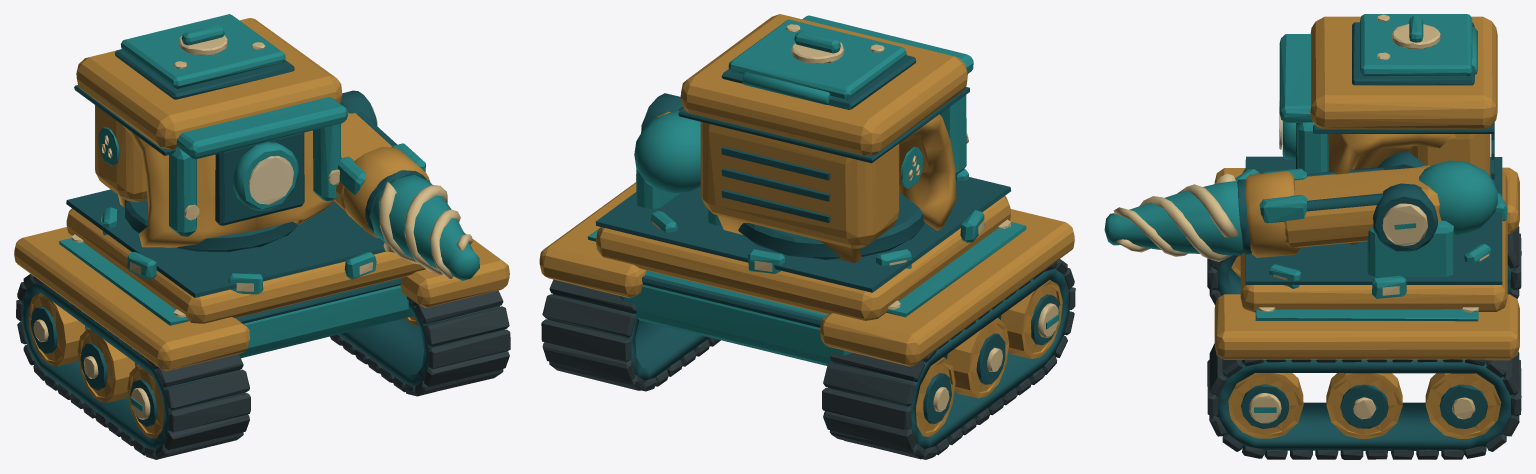
File: TOY_QUOTA.lo.glb
3 views of the same model, side by side, from view 1: azimuth 30°, elevation 25°; view 2: azimuth 150°, elevation 25°; view 3: azimuth 270°, elevation 25° (orthographic). The views are drawn at different scales.
Visible parts, largest first — view 1: mesh_Chassis, mesh_TurretYaw, mesh_BodySpring, mesh_DrillSpin, mesh_BatteryCover, mesh_Slide, mesh_ArmPitch, mesh_DriveL; view 2: mesh_Chassis, mesh_TurretYaw, mesh_BodySpring, mesh_BatteryCover, mesh_ArmPitch, mesh_DriveL; view 3: mesh_Chassis, mesh_TurretYaw, mesh_BodySpring, mesh_ArmPitch, mesh_DrillSpin, mesh_BatteryCover, mesh_Slide, mesh_DriveR.
Boxes of the visible parts, <box> form: mesh_Chassis: <box>14,227,510,459</box>; mesh_TurretYaw: <box>74,18,376,251</box>; mesh_BodySpring: <box>66,189,425,323</box>; mesh_DrillSpin: <box>370,174,480,280</box>; mesh_BatteryCover: <box>121,14,285,88</box>; mesh_Slide: <box>338,143,430,238</box>; mesh_ArmPitch: <box>333,107,397,210</box>; mesh_DriveL: <box>130,388,150,419</box>; mesh_Chassis: <box>539,182,1075,459</box>; mesh_TurretYaw: <box>636,14,973,263</box>; mesh_BodySpring: <box>595,169,1010,320</box>; mesh_BatteryCover: <box>728,19,906,104</box>; mesh_ArmPitch: <box>634,111,700,193</box>; mesh_DriveL: <box>1038,303,1059,337</box>; mesh_Chassis: <box>1207,167,1521,459</box>; mesh_TurretYaw: <box>1279,16,1497,276</box>; mesh_BodySpring: <box>1235,156,1507,312</box>; mesh_ArmPitch: <box>1284,160,1497,247</box>; mesh_DrillSpin: <box>1104,173,1243,261</box>; mesh_BatteryCover: <box>1360,14,1477,76</box>; mesh_Slide: <box>1237,168,1307,257</box>; mesh_DriveR: <box>1249,393,1281,423</box>.
Bounding box in the file's own units: 2.99 × 2.75 × 3.07.
